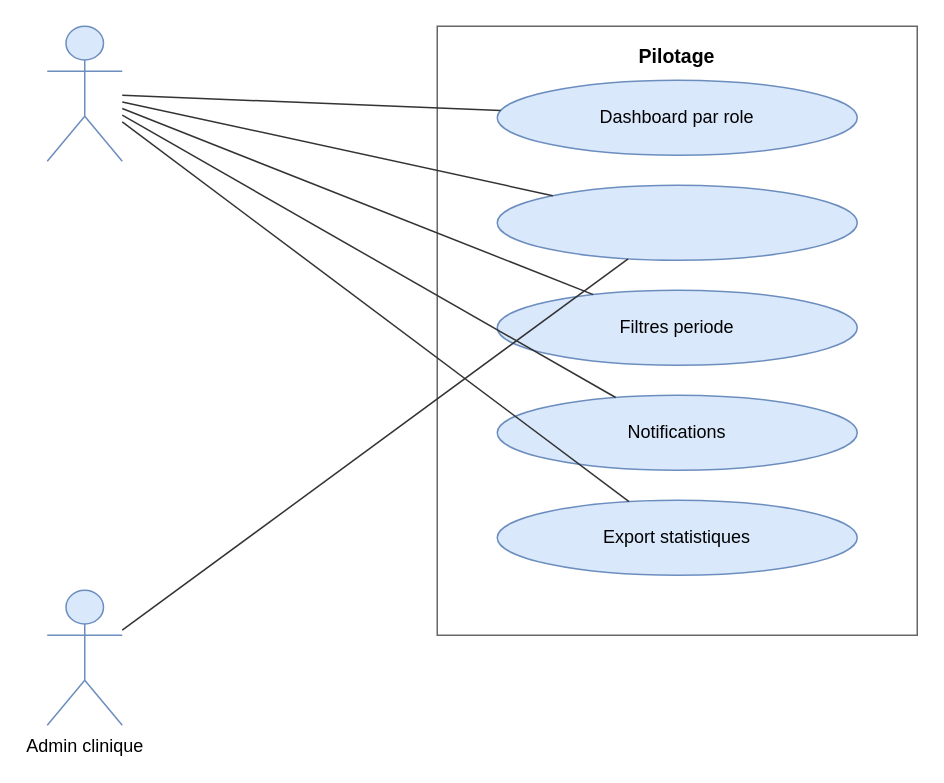
Image size: 944x783. Some labels were removed from this diagram. The shapes that lost their labels are listed below. From the top down, each one's centre as x and y in pixels, then its label:
the point at 84,93: Utilisateur
the point at 676,222: KPI & graphiques
